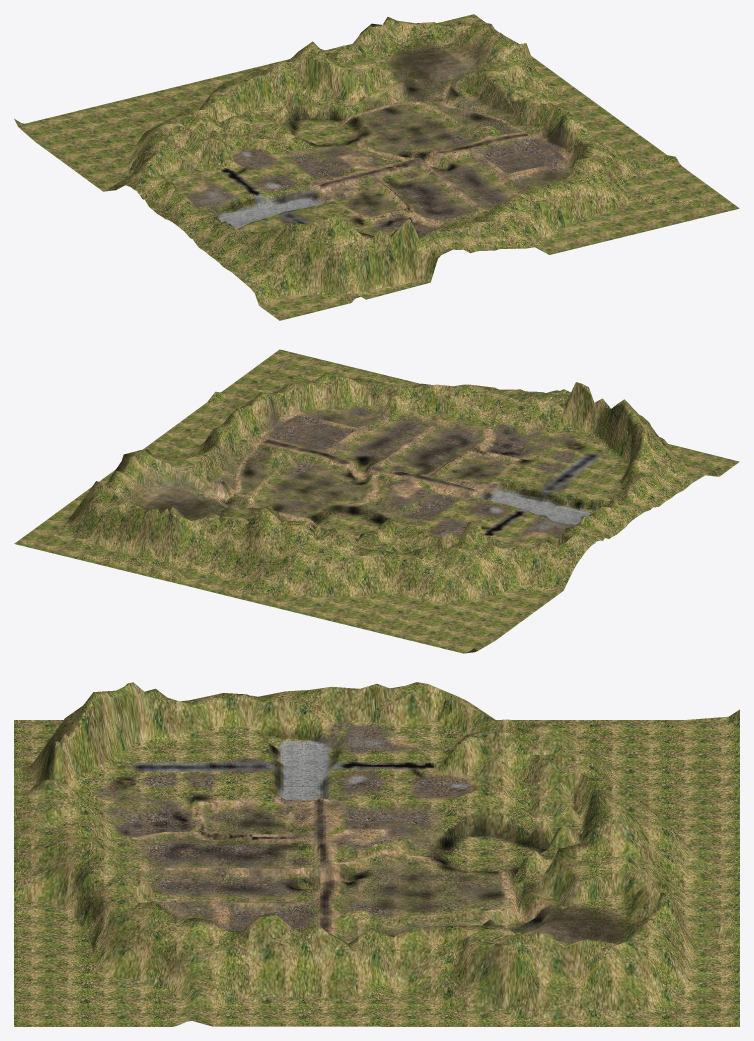
3 views of the same model, one above another, from view 1: azimuth 30°, elevation 25°; view 2: azimuth 150°, elevation 25°; view 3: azimuth 270°, elevation 25° (orthographic). The views are drawn at different scales.
Visible parts, largest first — view 1: Mesh; view 2: Mesh; view 3: Mesh.
Boxes of the visible parts, x1,y1,x2,y2 form: Mesh: [14, 14, 739, 320]; Mesh: [14, 349, 739, 653]; Mesh: [14, 682, 739, 1026].
Bounding box in the file's own units: 130 × 16.9 × 130.
1 material, 1 textured.
